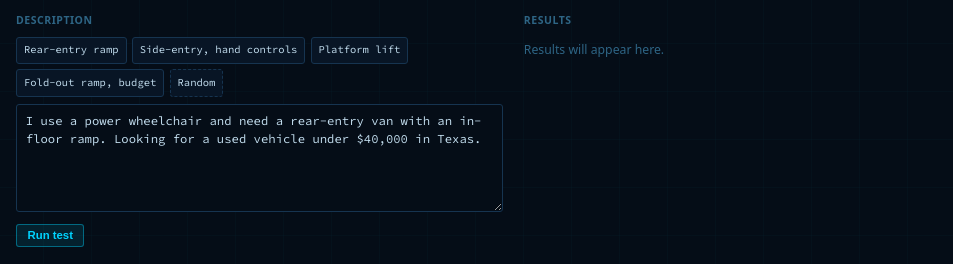
Scenario: IntakeTestPanel › should show the HTTP status for a failed response
Click the button "Run test". click: (50, 235)
box: 16,224 -> 84,247
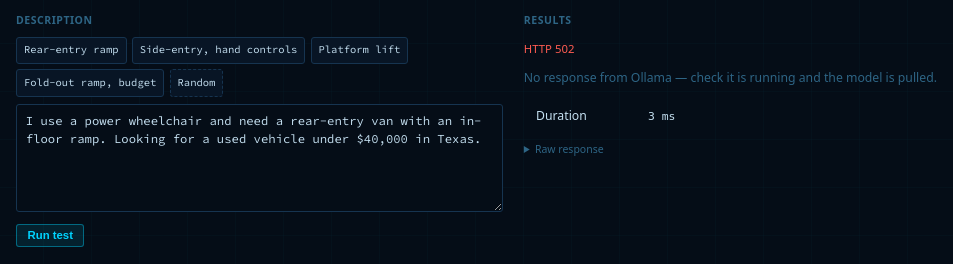
Now the text "HTTP 502" is shown, box 524,41 -> 574,56
